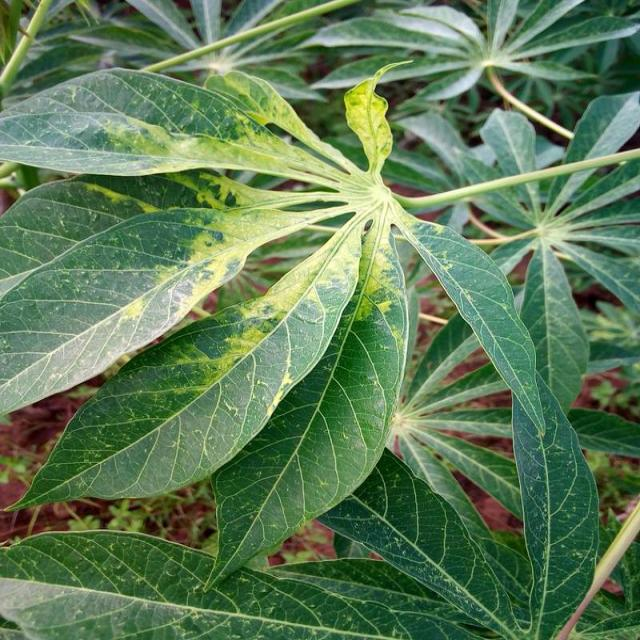cassava leaf: (2, 55, 611, 637), (5, 204, 371, 513), (203, 204, 411, 594)
